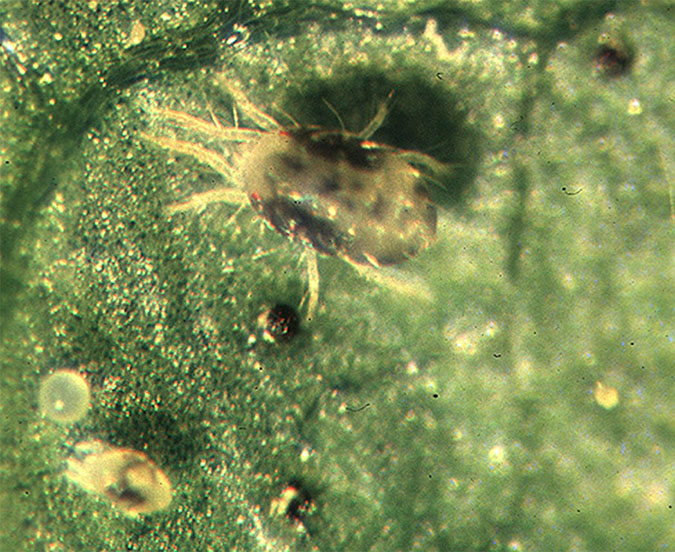Mites: (139, 56, 478, 314), (53, 428, 178, 535)
